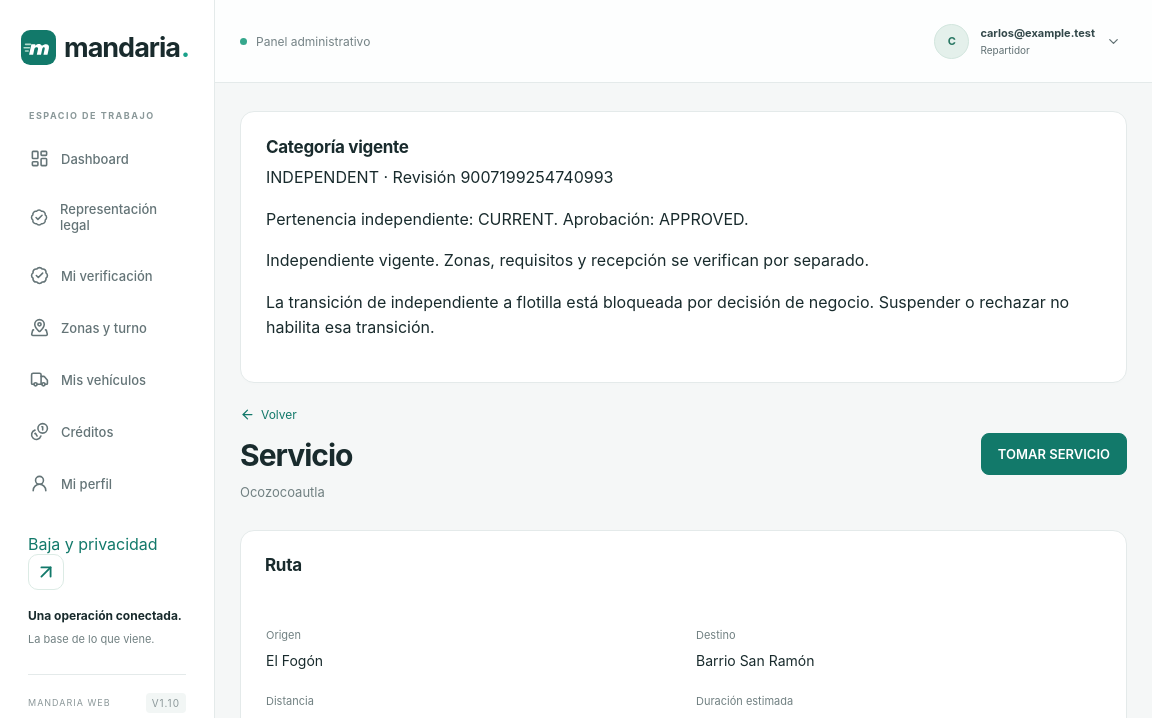
Test: take › explains that a service someone else took is gone, and refreshes (TAKE_CONFLICT)
Click the button "TOMAR SERVICIO".
click(1054, 454)  # box [981, 433, 1127, 475]
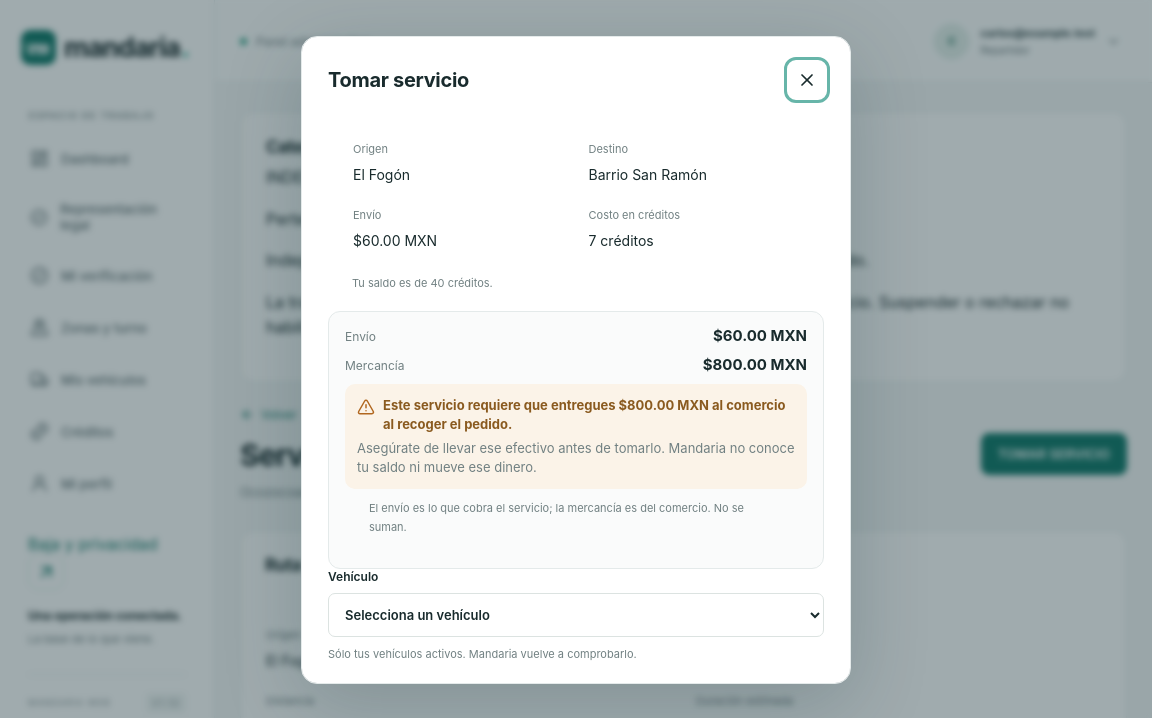
Select "MOTO-IND-1 · Motocicleta" in the dropdown labelled "Vehículo" at (576, 615), box [328, 593, 824, 637]
(page scrolled)
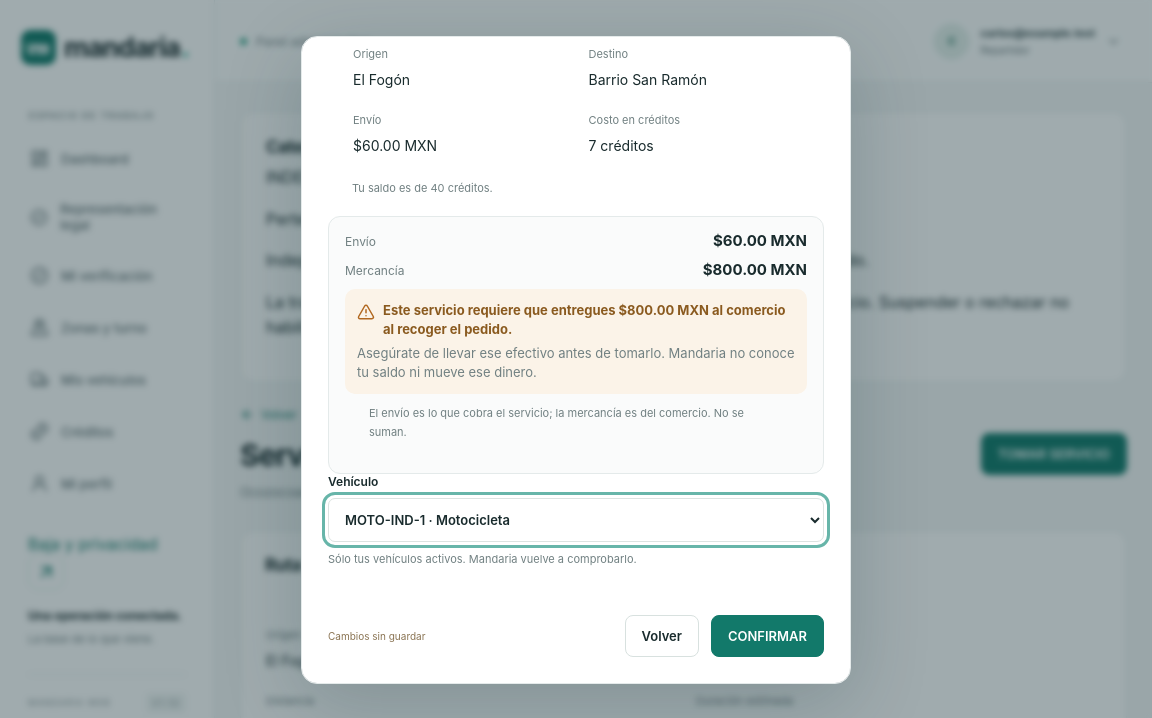
Click the button "CONFIRMAR".
click(767, 636)  # box [711, 615, 824, 657]
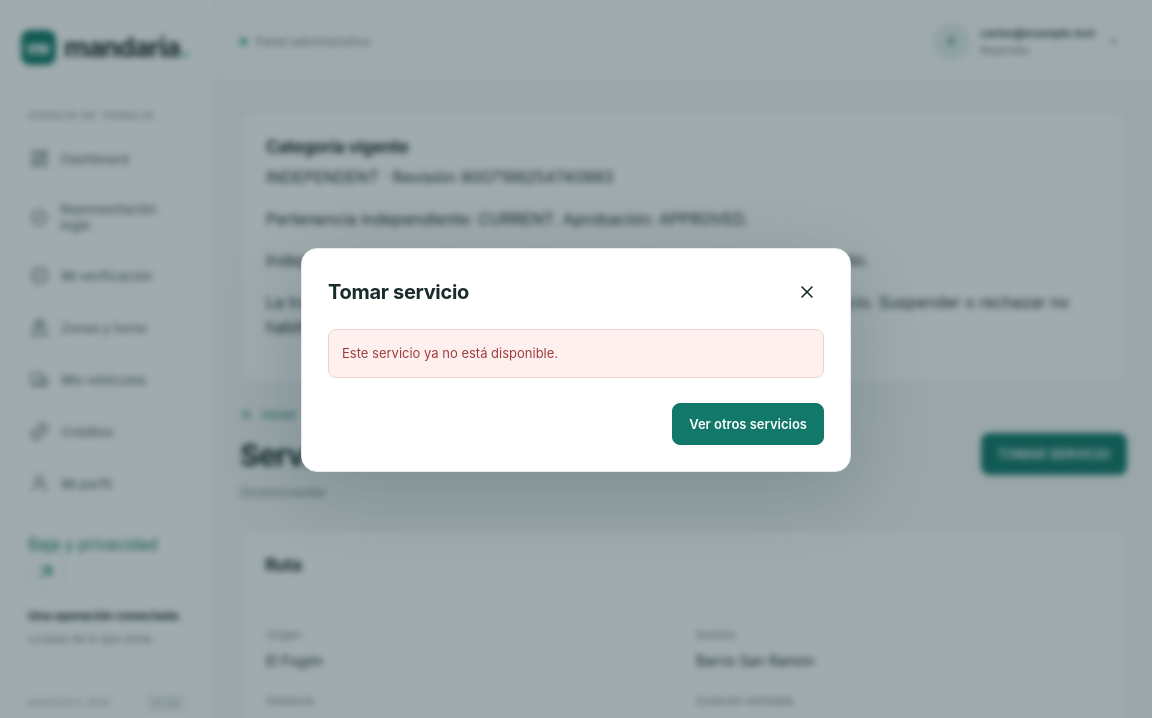
Expected: the message does not show "internal detail", [328, 329, 824, 378]
Now the message reads "Este servicio ya no está disponible.", box [342, 345, 558, 361]
